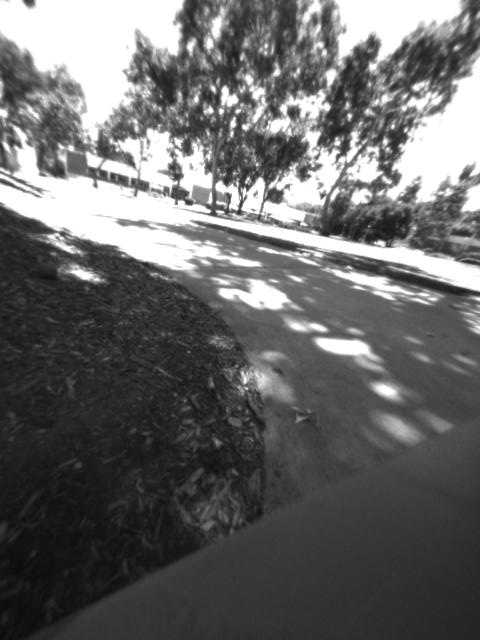dogtoy: (29, 254, 62, 288)
